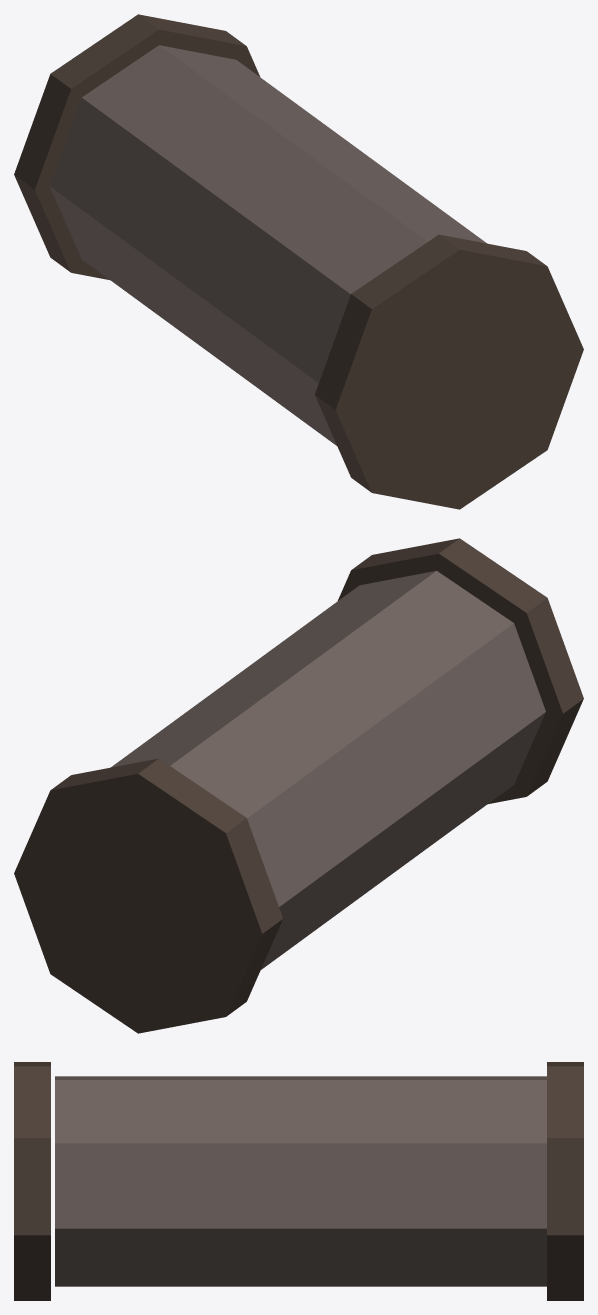
File: toru.fbx
3 renders of one model, top to bottom at view 1: azimuth 30°, elevation 25°; view 2: azimuth 150°, elevation 25°; view 3: azimuth 270°, elevation 25°, orthographic. The views are drawn at different scales.
Parts seen in each view (by area): view 1: Plane.003; view 2: Plane.003; view 3: Plane.003.
Part boxes in pixels (left/top/right/bottom): Plane.003: left=14, top=14, right=583, bottom=509; Plane.003: left=14, top=538, right=583, bottom=1033; Plane.003: left=14, top=1062, right=583, bottom=1300.
Bounding box in the file's own units: 47.71 × 47.71 × 107.
